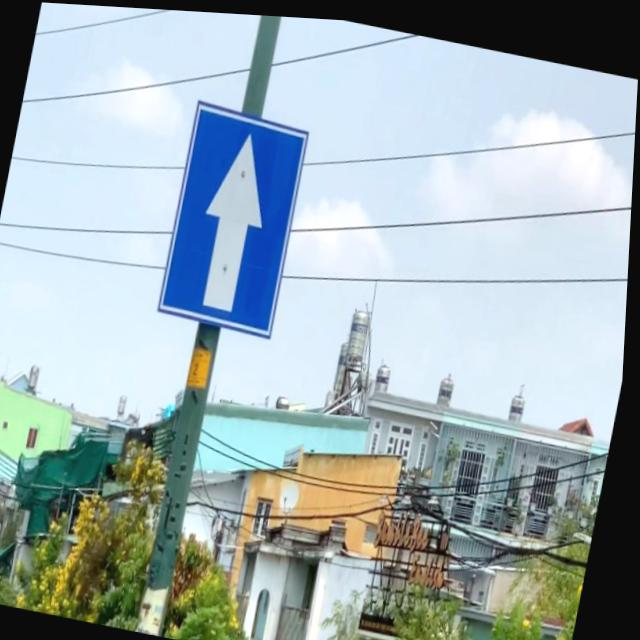Duong mot chieu: (157, 92, 316, 340)
